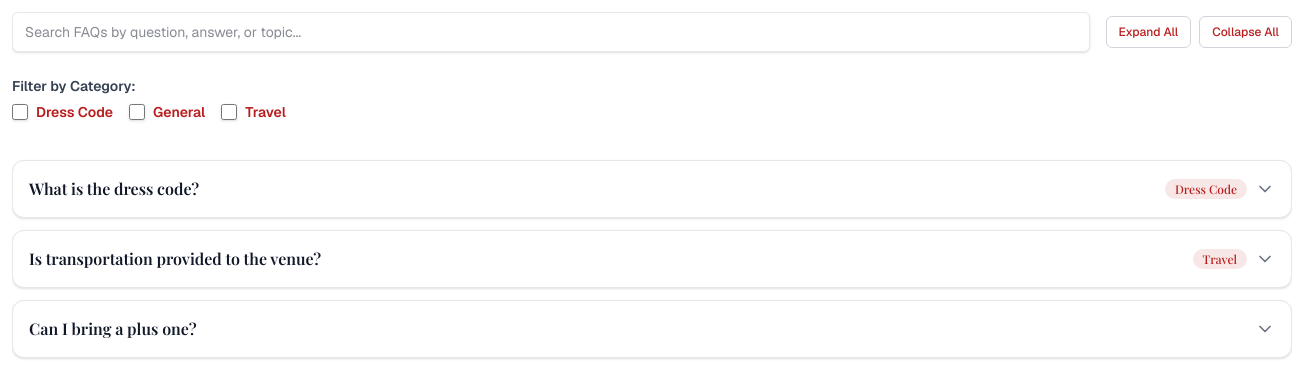
Test: FaqAccordion Component › expands all and collapses all items using toggle controls
// Click Expand All
Click the button with aria-label "expand all faq items".
click(1148, 32)  # box [1106,16,1191,48]
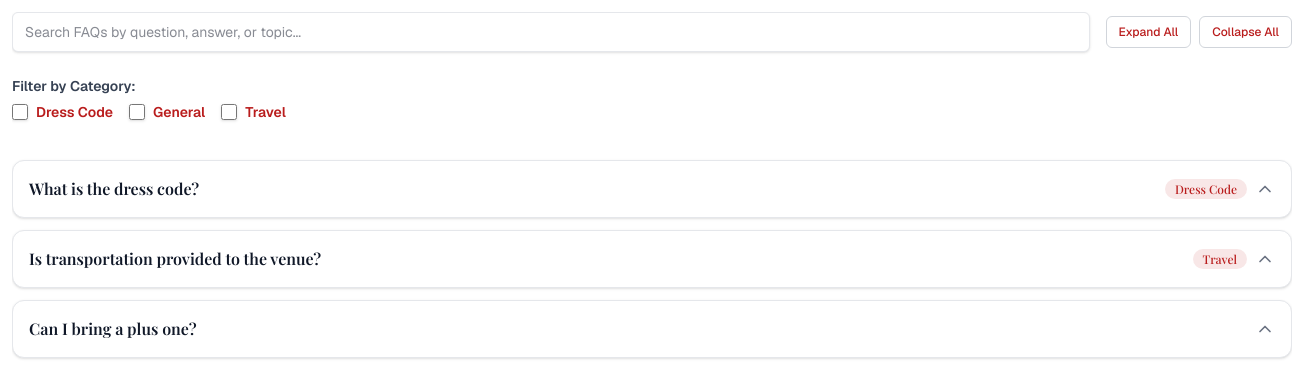
Now the button "What is the dress code? Dress Code" is expanded, box [13,161,1291,217]
Now the button "Is transportation provided to the venue? Travel" is expanded, box [13,231,1291,287]
Now the button "Can I bring a plus one?" is expanded, box [13,301,1291,357]
// Click Collapse All
Click the button with aria-label "collapse all faq items".
click(1246, 32)  # box [1199,16,1292,48]
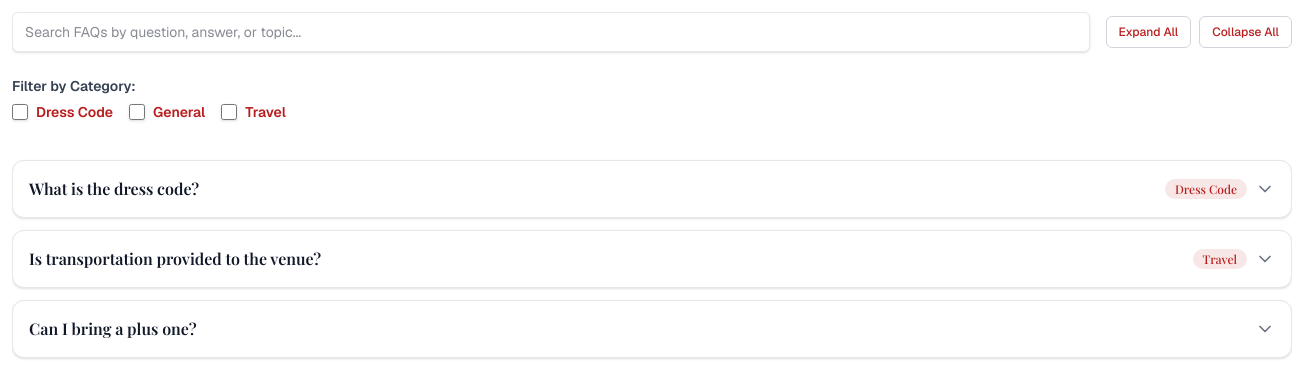
Now the button "What is the dress code? Dress Code" is collapsed, box [13,161,1291,217]
Now the button "Is transportation provided to the venue? Travel" is collapsed, box [13,231,1291,287]
Now the button "Can I bring a plus one?" is collapsed, box [13,301,1291,357]
